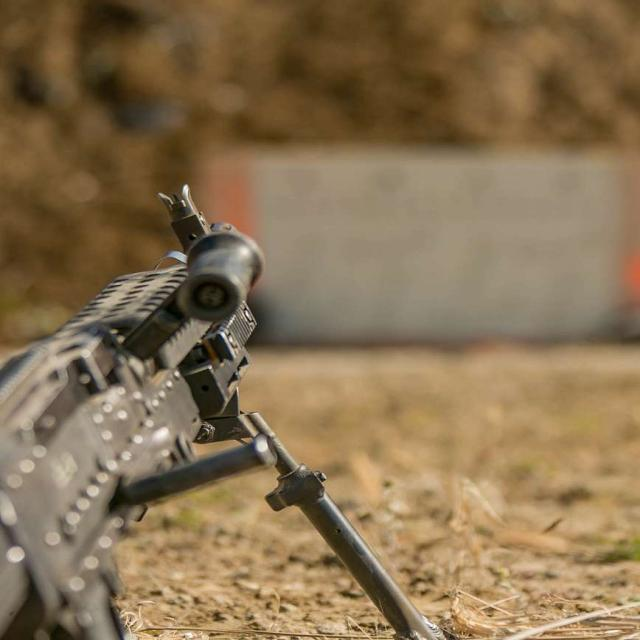Gun: (8, 181, 460, 640)
